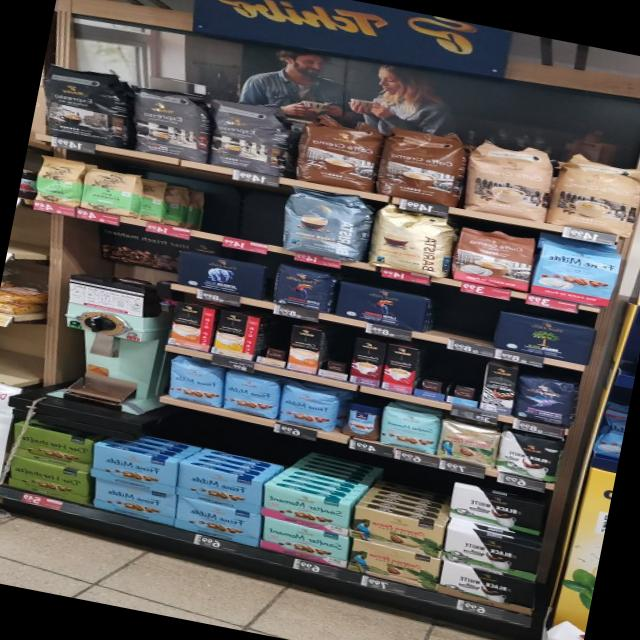AB Gemahlen: (172, 248, 268, 300)
Athiopien Bohne: (31, 154, 88, 209)
Athiopien Gemahlen: (78, 162, 143, 218)
BM Gemahlen: (494, 310, 598, 366)
BW Bohne: (493, 429, 562, 484)
BW Gemahlen: (440, 527, 543, 582), (438, 561, 539, 615), (446, 482, 544, 536)
Barista CB: (367, 205, 454, 279)
Barista CC: (276, 184, 369, 264)
C Fino Bohne: (511, 372, 578, 429)
CC Mild: (458, 134, 560, 223), (545, 152, 640, 241)
CC Vollmundig: (451, 225, 536, 293)
CC Vollmundig 36 Pads: (375, 120, 469, 209), (295, 114, 385, 194)
Colombia BB Bohne: (434, 418, 500, 469)
Colombia BB Gemahlen: (348, 506, 450, 558), (346, 540, 444, 592)
Empty Shelf: (135, 173, 280, 245), (422, 295, 500, 346), (416, 350, 454, 394), (448, 357, 486, 401), (256, 318, 292, 362), (320, 332, 355, 374)
Espresso Aromatisch: (125, 82, 213, 164)
Espresso M Art: (206, 95, 290, 176)
Espresso S Art: (34, 56, 128, 148)
FM 36 Pads: (532, 238, 622, 310)
FM Bohne: (276, 384, 341, 433), (219, 371, 282, 419), (164, 360, 223, 407)
FM Gemahlen: (173, 495, 264, 547), (88, 443, 177, 495), (175, 462, 262, 514), (92, 477, 175, 526)
FM Instant: (339, 400, 382, 440)
Herzhatfe Mundig: (11, 422, 92, 473), (7, 453, 87, 504)
LG Bohne: (268, 261, 337, 314)
LG Gemahlen: (334, 280, 432, 333)
SM Bohne: (377, 405, 441, 455)
SM Gemahlen: (259, 516, 351, 569), (261, 483, 349, 536)
Simo CCMild: (211, 310, 261, 361)
Simo CCVollmundig: (169, 302, 215, 351)
Simo CCVollmundig bigpack: (286, 324, 324, 374)
Simo Es Brazil: (382, 344, 419, 394)
Simo Es Caramel: (348, 338, 386, 388)
Simo Es Elegant: (478, 364, 518, 416)
